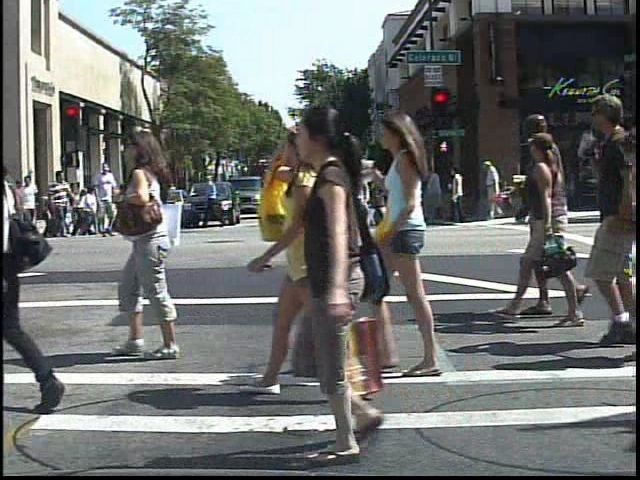person: (297, 105, 412, 469), (366, 108, 507, 388), (240, 115, 358, 396), (0, 116, 77, 421), (103, 118, 198, 363), (578, 79, 631, 350), (92, 160, 125, 241), (46, 164, 76, 241), (480, 155, 508, 226), (15, 170, 39, 242), (100, 178, 120, 220), (164, 175, 182, 211)
